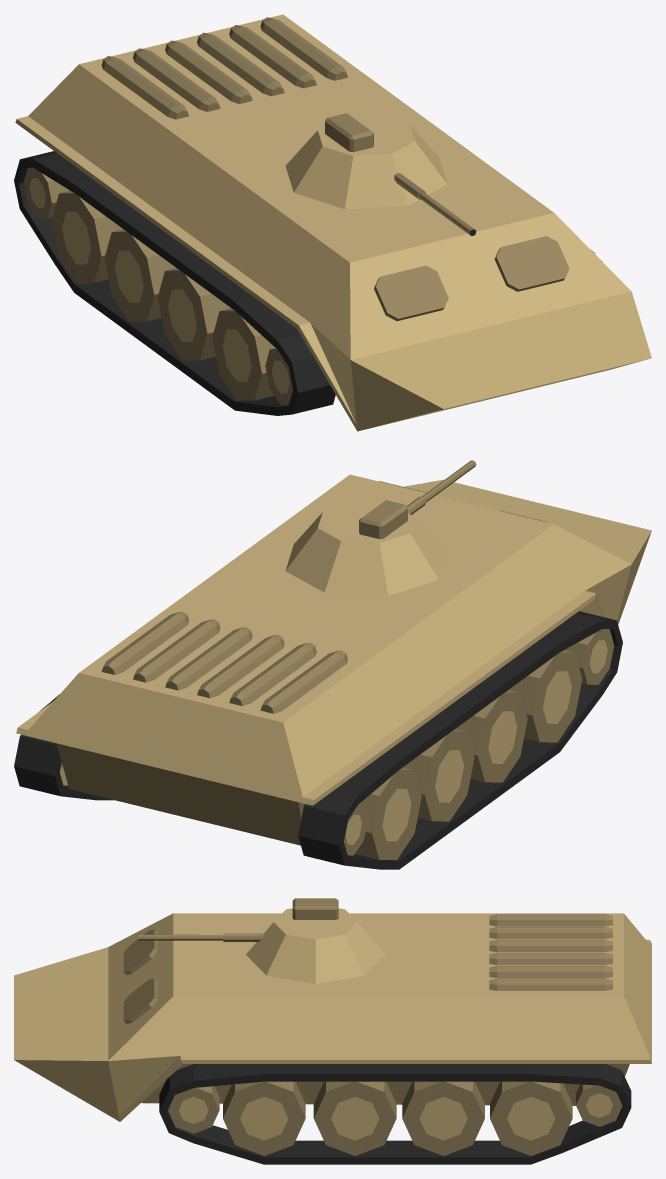
The model's file is IFV_02.fbx.
The picture shows the model from 3 angles, top to bottom: view 1: azimuth 30°, elevation 25°; view 2: azimuth 150°, elevation 25°; view 3: azimuth 270°, elevation 25°; orthographic projection. The views are drawn at different scales.
Parts seen in each view (by area): view 1: IFV_02, IFV_02_Turret, IFV_02_Barrel; view 2: IFV_02, IFV_02_Turret, IFV_02_Barrel; view 3: IFV_02, IFV_02_Turret, IFV_02_Barrel.
Part boxes in pixels (<box>): IFV_02: <box>14,14,651,431</box>; IFV_02_Turret: <box>285,113,447,209</box>; IFV_02_Barrel: <box>394,173,475,235</box>; IFV_02: <box>14,474,651,869</box>; IFV_02_Turret: <box>285,500,447,596</box>; IFV_02_Barrel: <box>407,460,476,514</box>; IFV_02: <box>14,913,651,1164</box>; IFV_02_Turret: <box>246,898,384,983</box>; IFV_02_Barrel: <box>138,933,263,941</box>.
Bounding box in the file's own units: 5.34 × 3.58 × 10.91.
